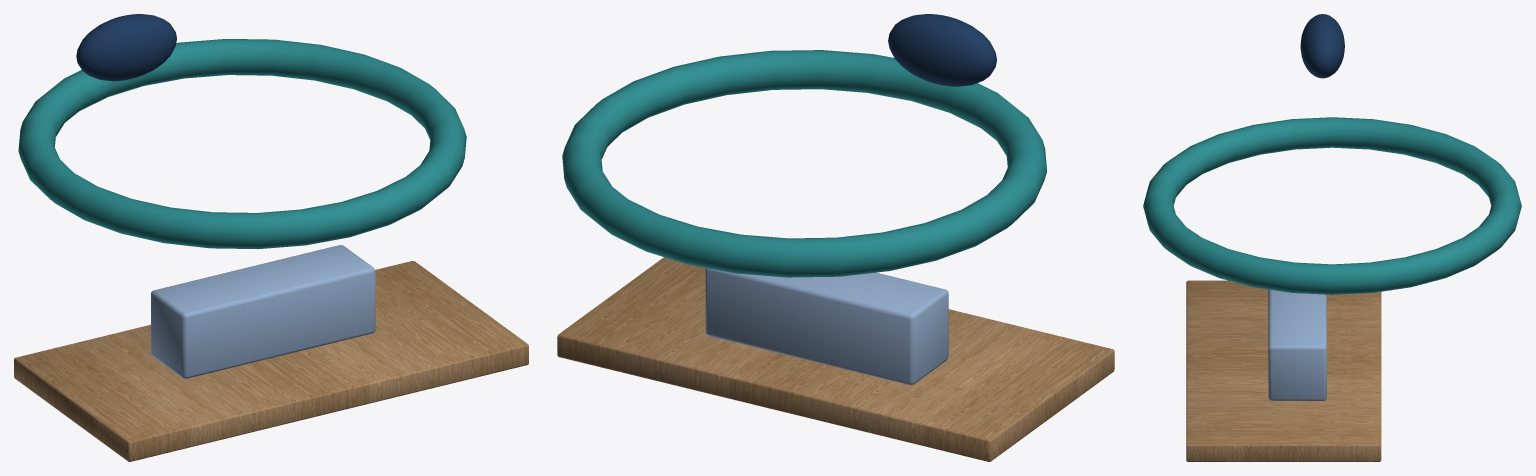
File: fair-whale-arch-71389e350588.glb
3 renders of one model, left to right at view 1: azimuth 30°, elevation 25°; view 2: azimuth 150°, elevation 25°; view 3: azimuth 270°, elevation 25°, orthographic. The views are drawn at different scales.
Visible parts, largest first — view 1: Stage_Step, Ocean_Ring_Arch, Photo_Bench, Echo_Whale_Emblem; view 2: Stage_Step, Ocean_Ring_Arch, Photo_Bench, Echo_Whale_Emblem; view 3: Stage_Step, Ocean_Ring_Arch, Photo_Bench, Echo_Whale_Emblem.
Boxes of the visible parts, x1,y1,x2,y2 form: Stage_Step: (14, 261, 528, 461); Ocean_Ring_Arch: (18, 39, 466, 249); Photo_Bench: (151, 245, 375, 378); Echo_Whale_Emblem: (76, 14, 176, 81); Stage_Step: (557, 257, 1114, 461); Ocean_Ring_Arch: (562, 50, 1047, 277); Photo_Bench: (705, 268, 948, 384); Echo_Whale_Emblem: (888, 14, 996, 86); Stage_Step: (1186, 280, 1381, 461); Ocean_Ring_Arch: (1143, 117, 1521, 294); Photo_Bench: (1268, 289, 1326, 400); Echo_Whale_Emblem: (1300, 14, 1344, 78).
Size of the model in its own units: 2.8 by 2.45 by 2.72.
4 materials, 2 textured.
